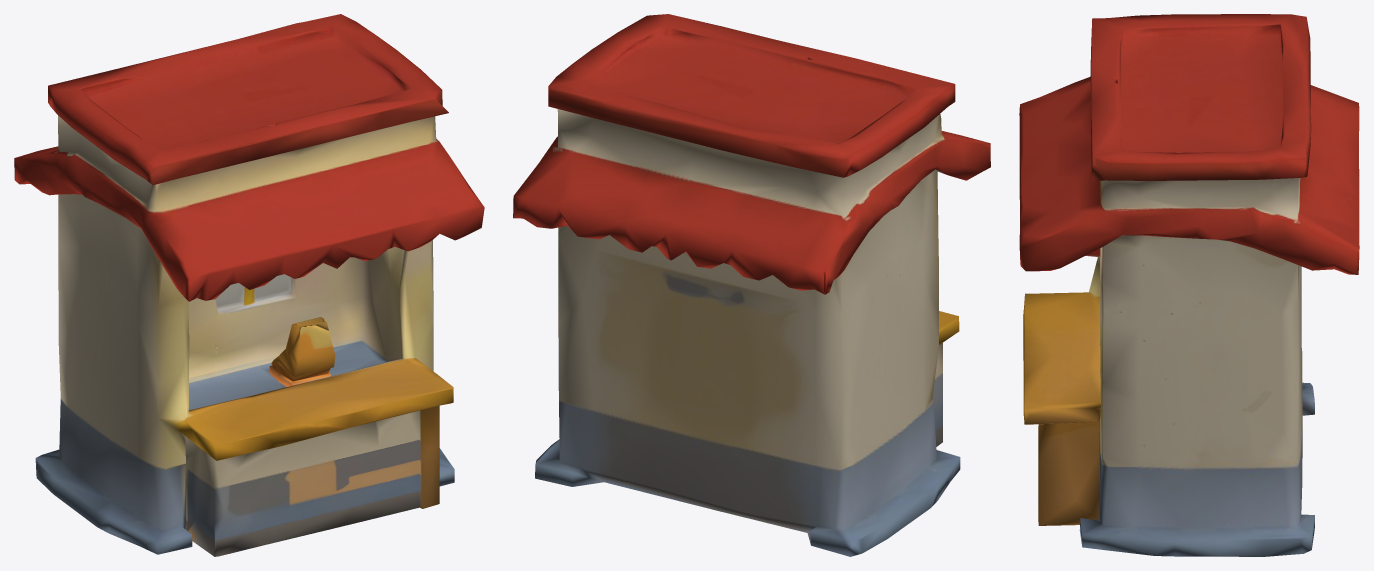
File: market stall 3d model.glb
3 views of the same model, side by side, from view 1: azimuth 30°, elevation 25°; view 2: azimuth 150°, elevation 25°; view 3: azimuth 270°, elevation 25° (orthographic).
Parts seen in each view (by area): view 1: tripo_node_46146413-3a24-4415-86b0-da90a1ca5f52; view 2: tripo_node_46146413-3a24-4415-86b0-da90a1ca5f52; view 3: tripo_node_46146413-3a24-4415-86b0-da90a1ca5f52.
Part boxes in pixels (bbox=[...]): tripo_node_46146413-3a24-4415-86b0-da90a1ca5f52: bbox=[14, 14, 484, 556]; tripo_node_46146413-3a24-4415-86b0-da90a1ca5f52: bbox=[513, 14, 990, 556]; tripo_node_46146413-3a24-4415-86b0-da90a1ca5f52: bbox=[1019, 14, 1359, 556].
Bounding box in the file's own units: 0.8645 × 0.9803 × 0.7722.
Materials: 1 (1 with a texture image).
